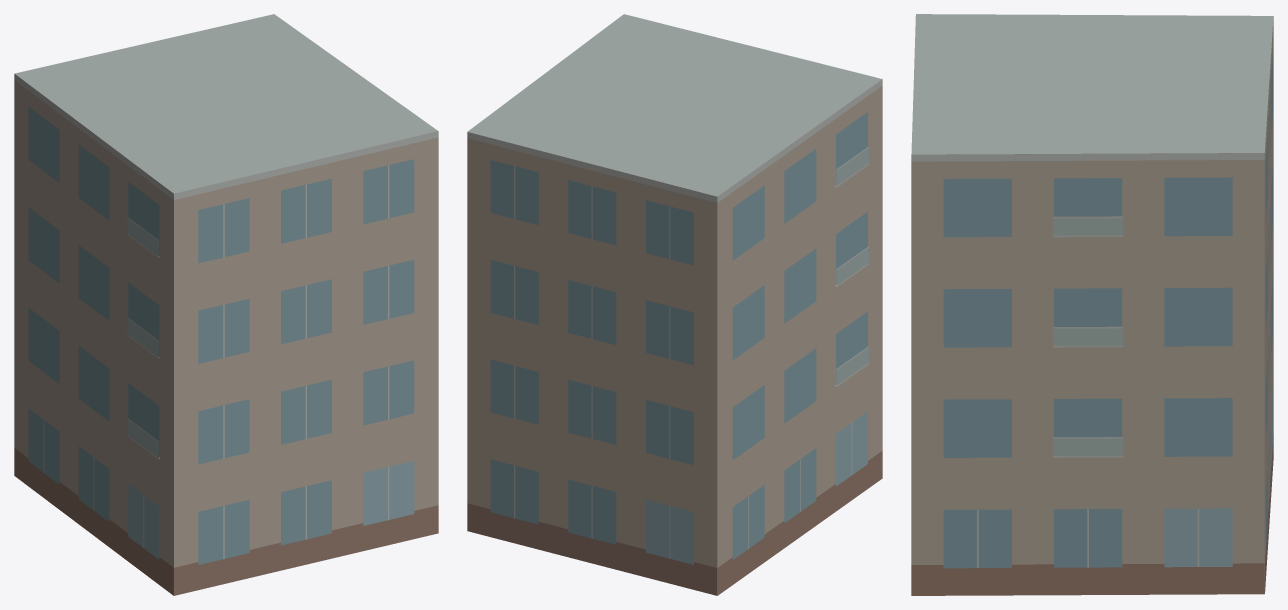
Rendered from survey-upis-32605414.glb.
3 views of the same model, side by side, from view 1: azimuth 30°, elevation 25°; view 2: azimuth 150°, elevation 25°; view 3: azimuth 270°, elevation 25° (orthographic). The views are drawn at different scales.
Parts seen in each view (by area): view 1: survey-upis-32605414.tmp; view 2: survey-upis-32605414.tmp; view 3: survey-upis-32605414.tmp.
Part boxes in pixels (x1,y1,x2,y2): survey-upis-32605414.tmp: (14, 14, 438, 595); survey-upis-32605414.tmp: (467, 14, 882, 595); survey-upis-32605414.tmp: (911, 14, 1273, 595).
Size of the model in its own units: 10.56 by 15.4 by 11.46.
